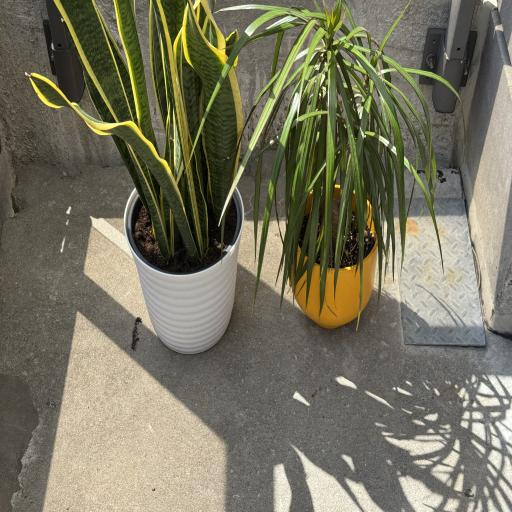Plant Pot: (124, 176, 245, 354), (284, 182, 378, 328)
